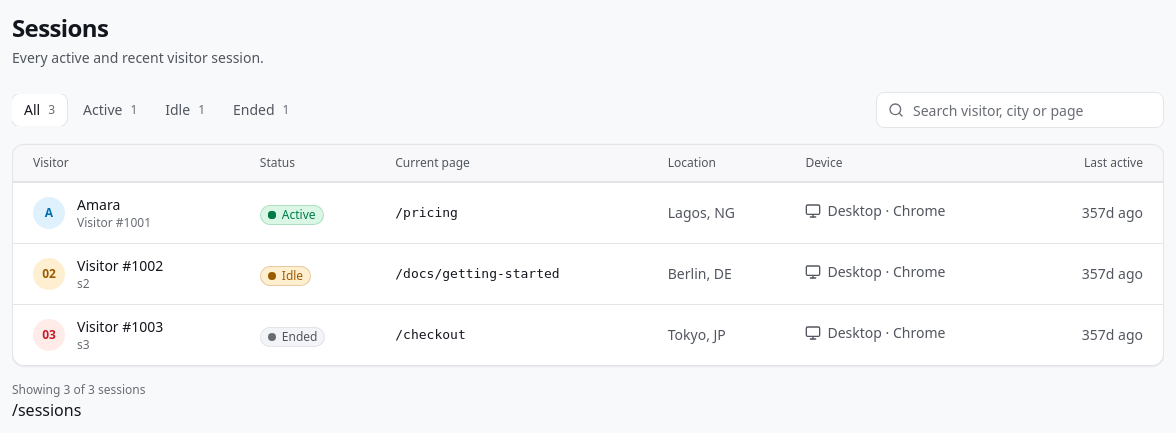
it: SessionsPage › filters by status through the URL
The width and height of the screenshot is (1176, 433).
Click the link "Idle 1" at point(185, 110), box left=165, top=100, right=205, bottom=119
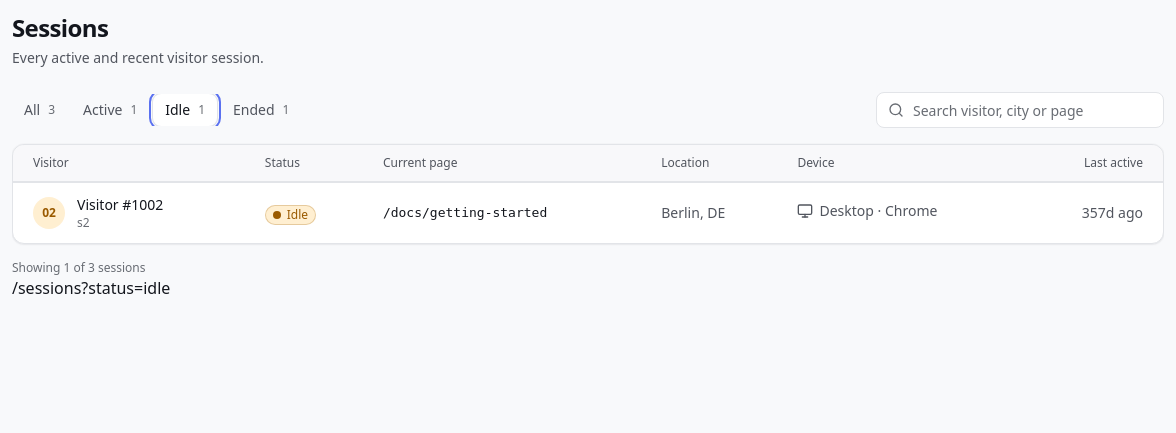
Expected: the text with test id "location" reads "/sessions?status=idle", left=12, top=277, right=170, bottom=299
